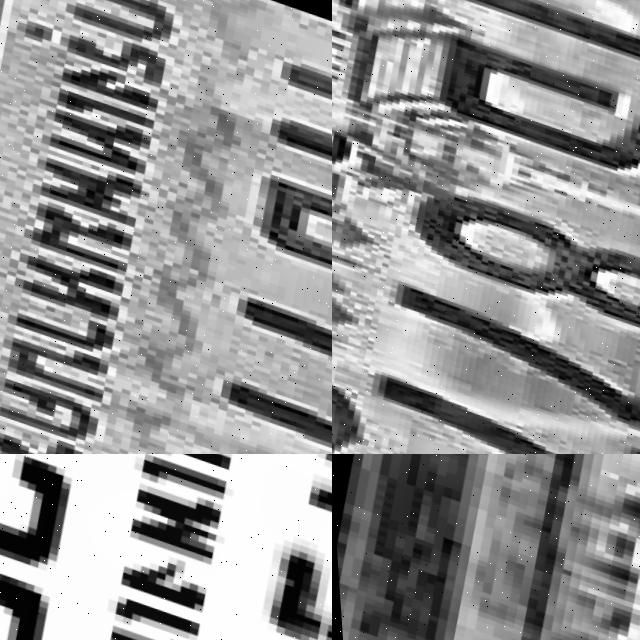license-plate: (0, 0, 332, 454), (332, 0, 640, 454), (0, 454, 332, 640), (365, 454, 640, 640)
